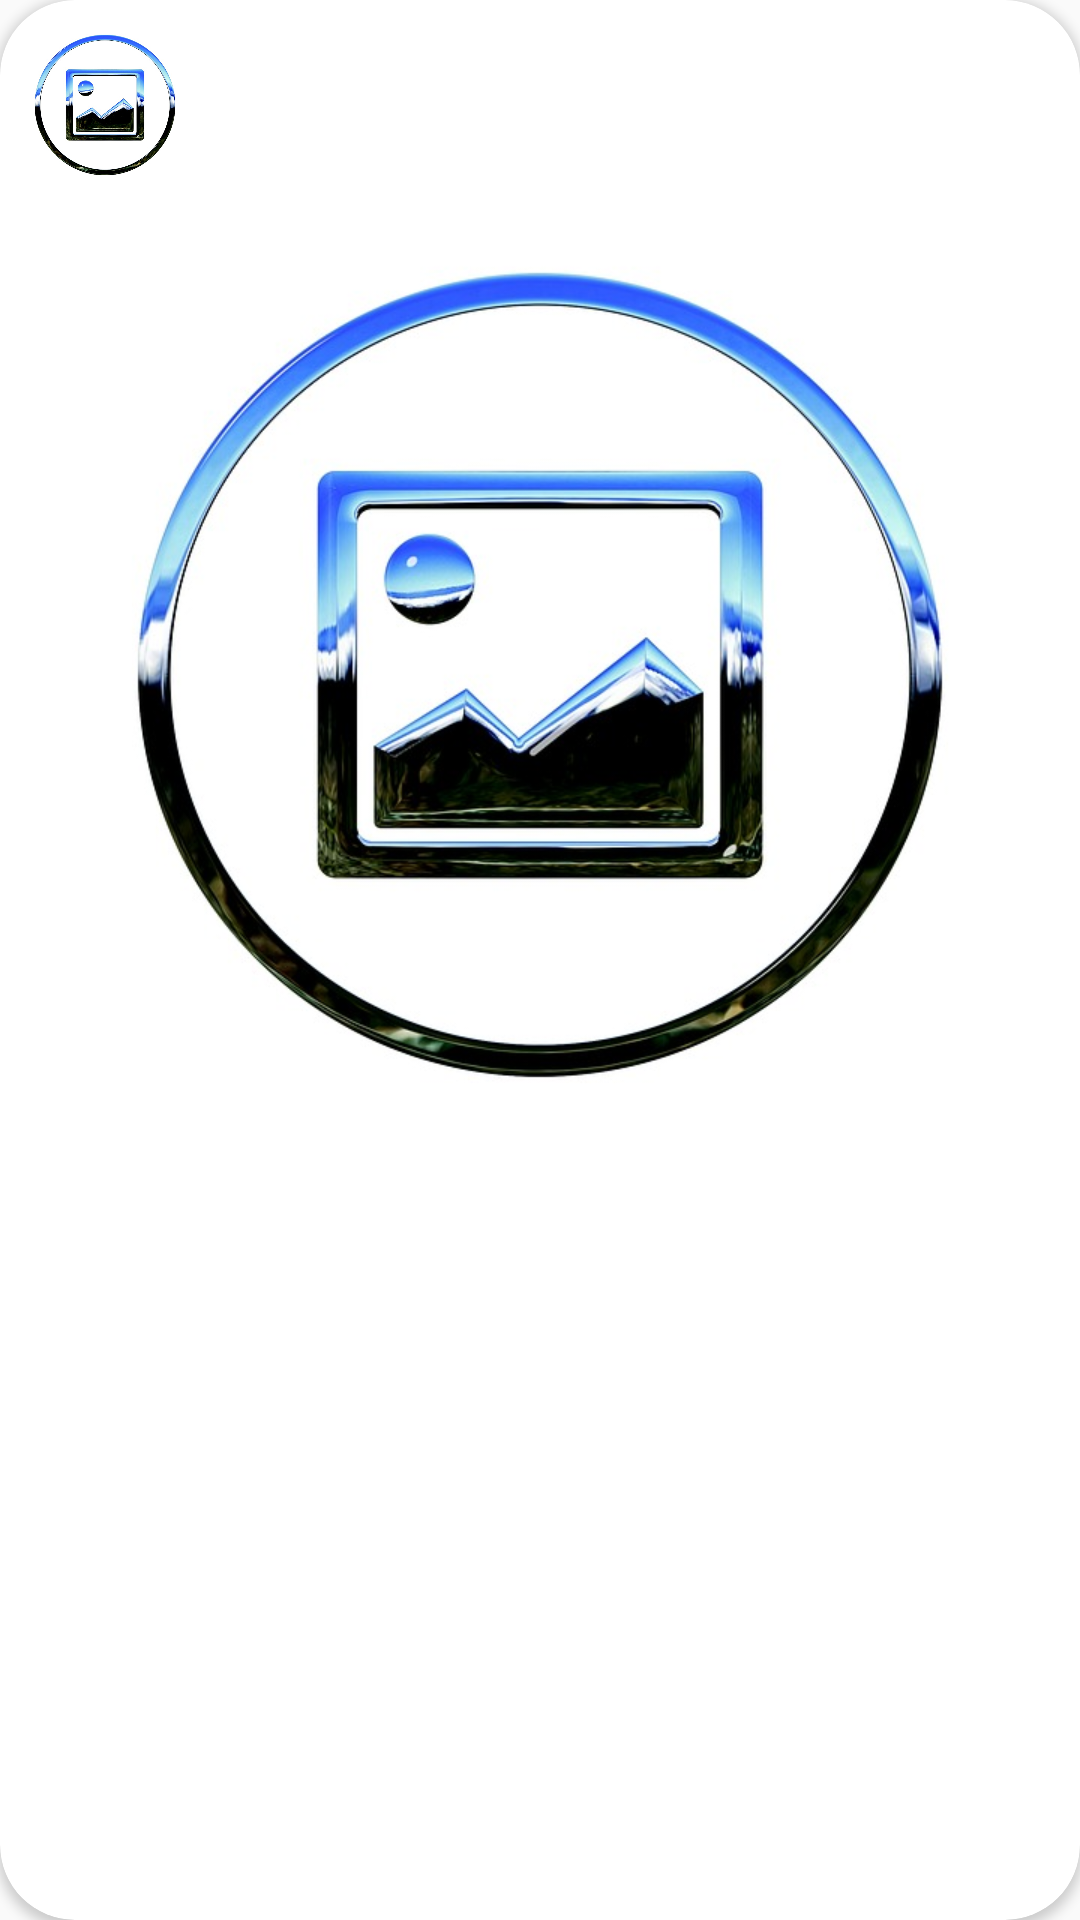

Screen size 1080 × 1920. Icon name, then its box in pixels as {"x1": x1, "y1": y1, "x2": x2, "y2": y2}:
Imagen del usuario que postea: {"x1": 35, "y1": 35, "x2": 175, "y2": 175}
